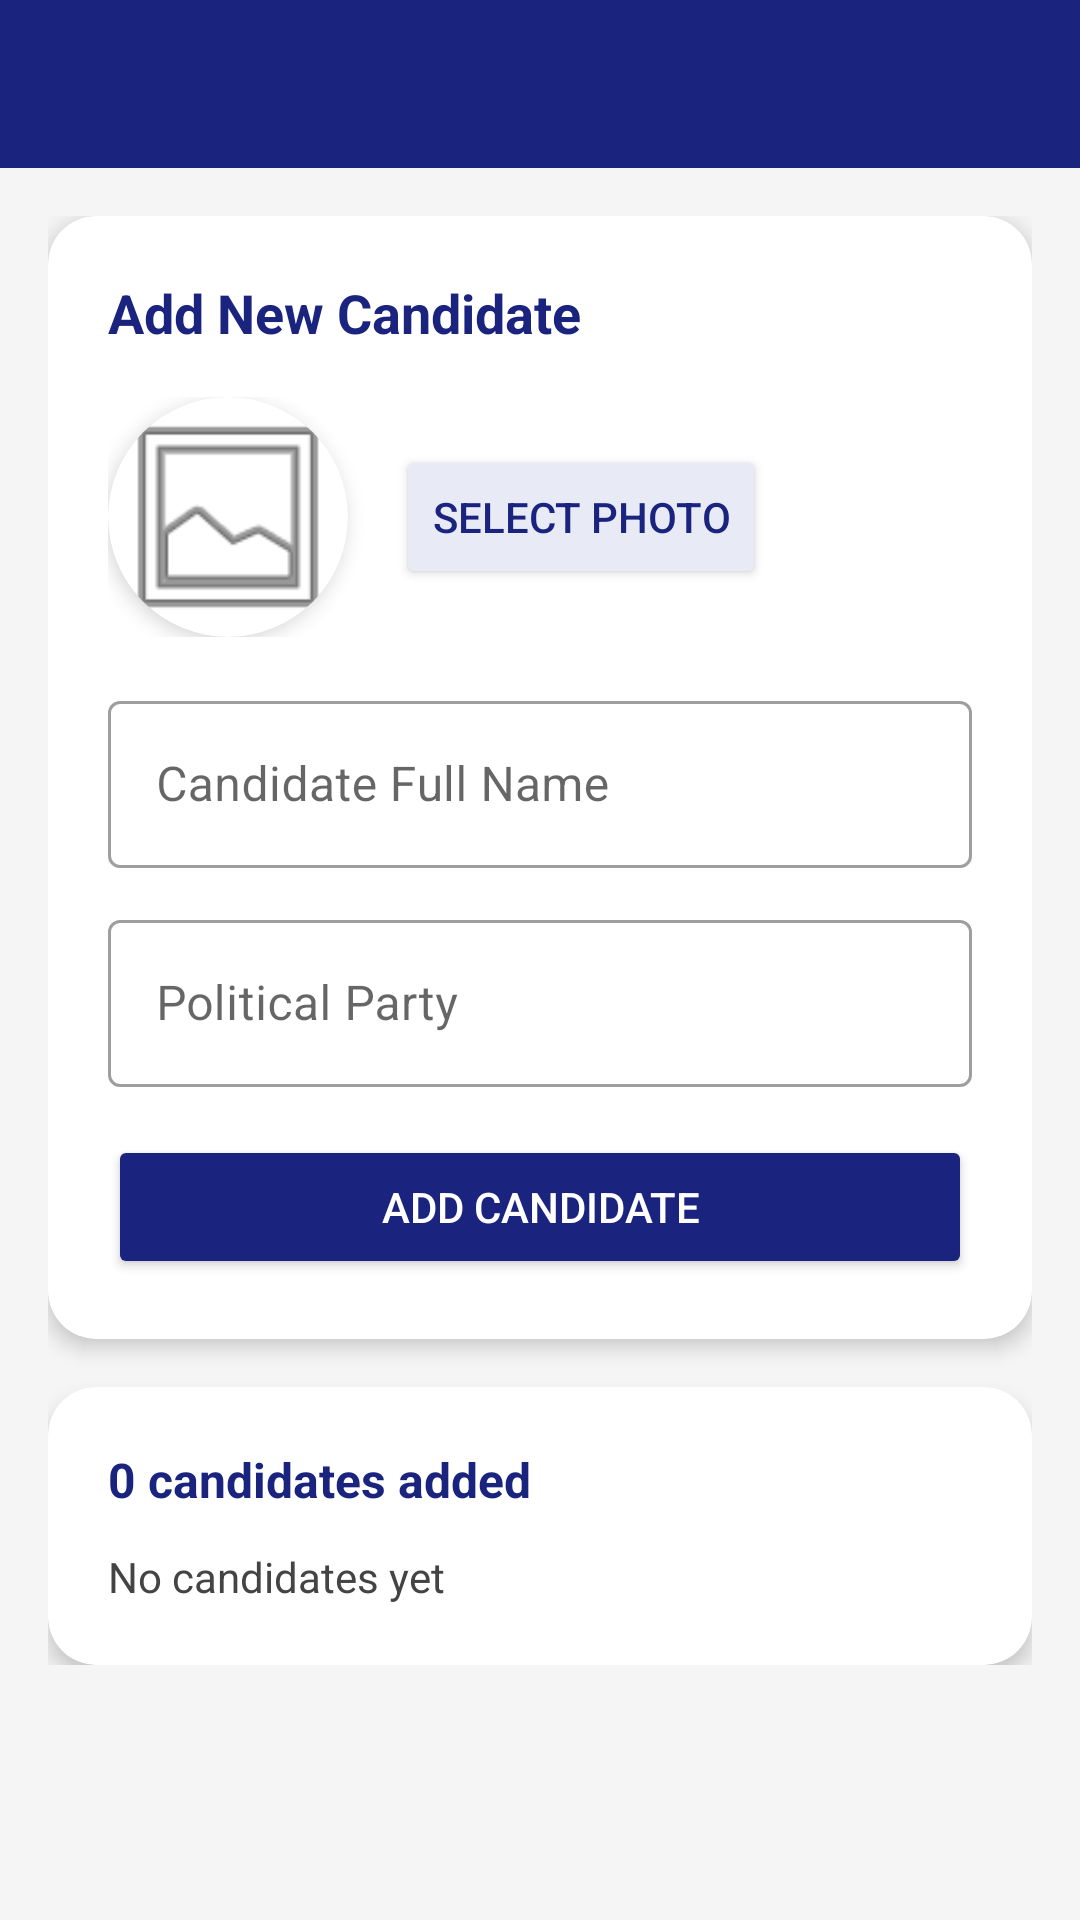

Named icons in this screenshot (1080 × 1920) and their bounding boxes, (x1, y1, x2, y2):
gallery: (113, 426, 319, 637)
